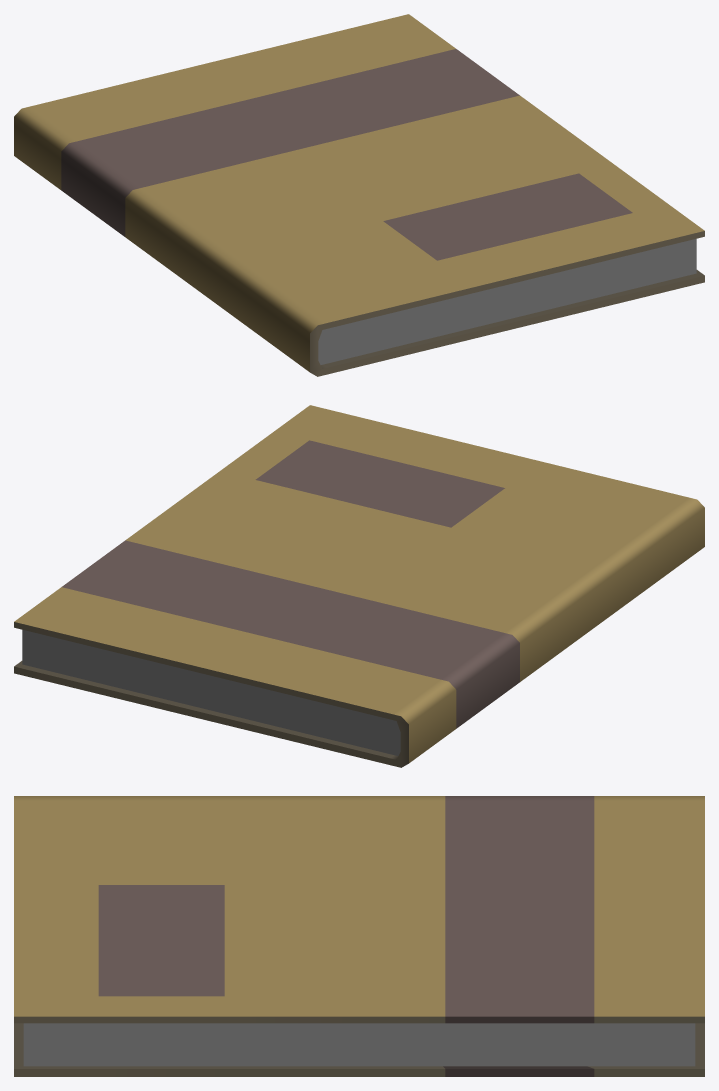
The picture shows the model from 3 angles, top to bottom: view 1: azimuth 30°, elevation 25°; view 2: azimuth 150°, elevation 25°; view 3: azimuth 270°, elevation 25°; orthographic projection. The views are drawn at different scales.
Parts seen in each view (by area): view 1: alt2.173; view 2: alt2.173; view 3: alt2.173.
Boxes of the visible parts, x1,y1,x2,y2 form: alt2.173: [14, 14, 704, 376]; alt2.173: [14, 405, 704, 767]; alt2.173: [14, 796, 704, 1076].
Size of the model in its own units: 0.3849 by 0.048 by 0.5.
